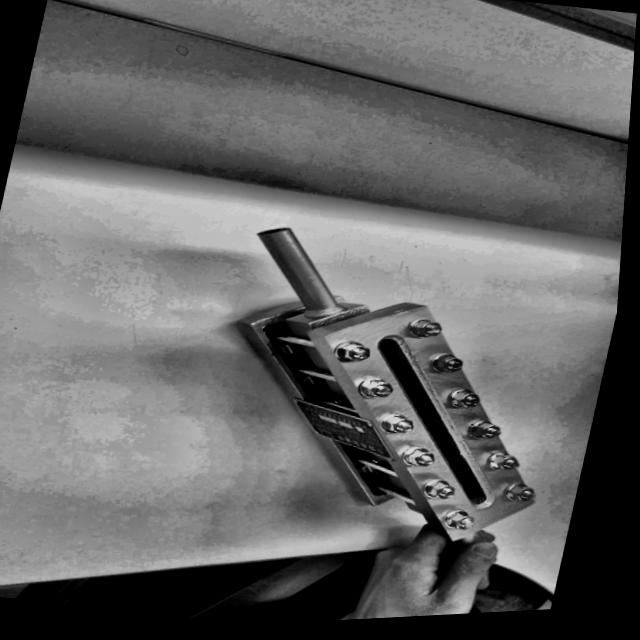ShuiWeiQi_12: (178, 198, 605, 569)
